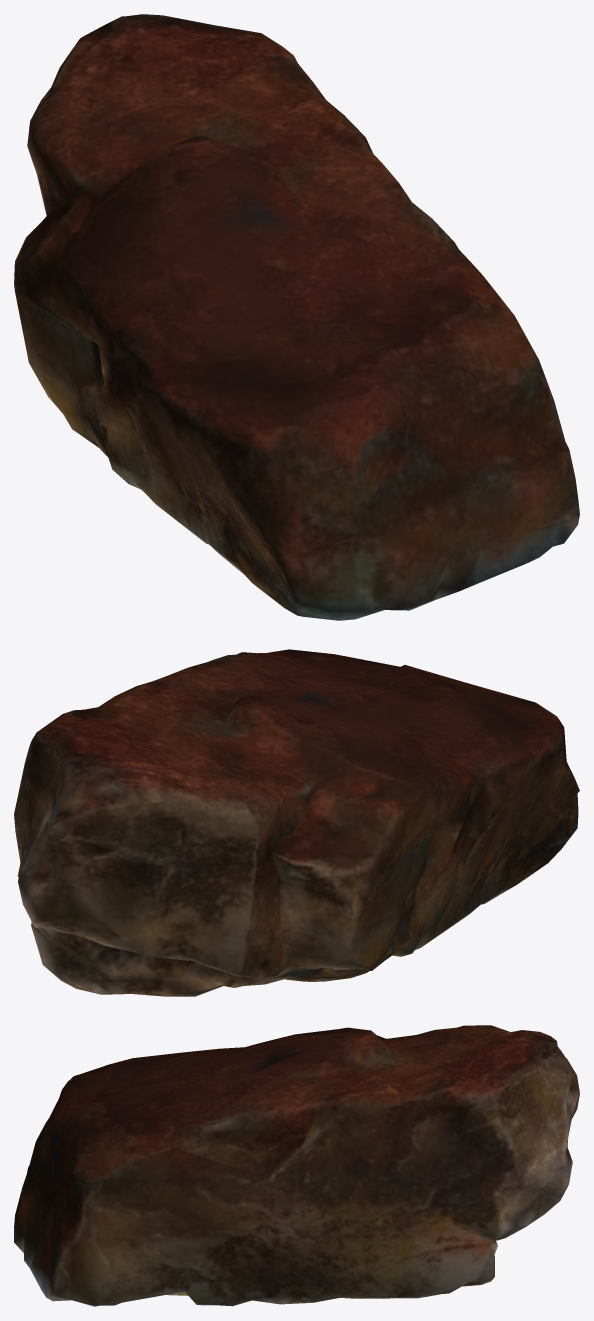
File: rock_07.glb
3 renders of one model, top to bottom at view 1: azimuth 30°, elevation 25°; view 2: azimuth 150°, elevation 25°; view 3: azimuth 270°, elevation 25°, orthographic. The views are drawn at different scales.
Parts seen in each view (by area): view 1: rock_07; view 2: rock_07; view 3: rock_07.
Part boxes in pixels (x1=…): rock_07: x1=14, y1=14, x2=579, y2=620; rock_07: x1=14, y1=649, x2=579, y2=996; rock_07: x1=14, y1=1025, x2=579, y2=1306.
Bounding box in the file's own units: 0.1679 × 0.1434 × 0.3198.
1 material, 1 textured.
